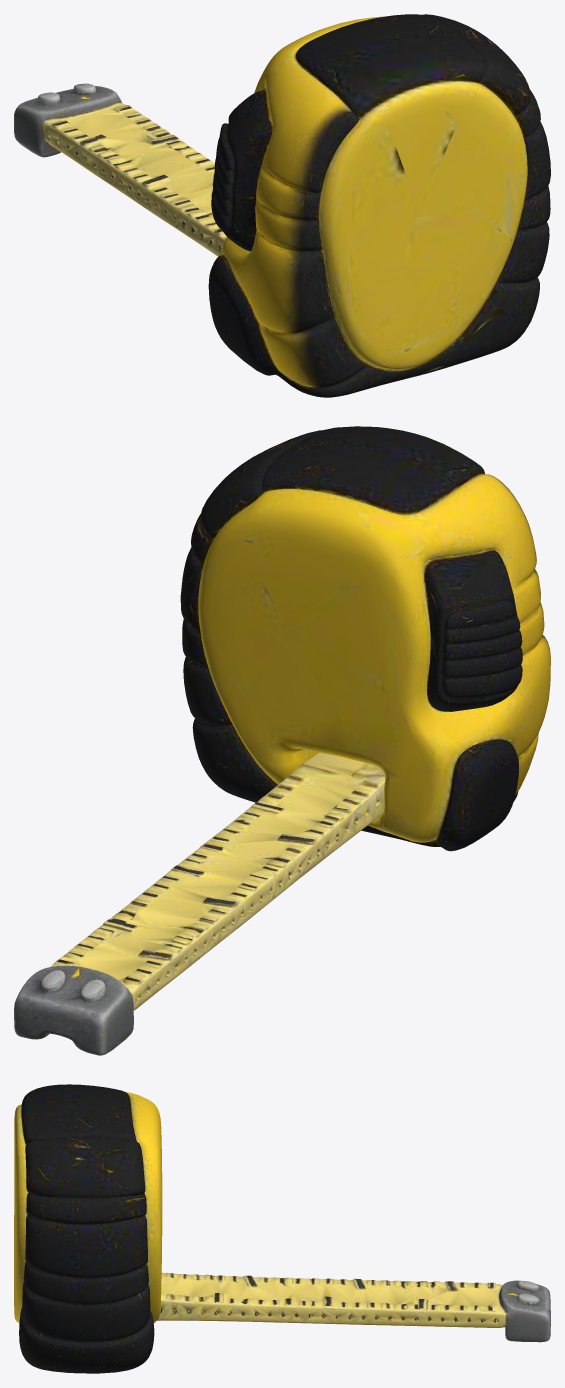
The picture shows the model from 3 angles, top to bottom: view 1: azimuth 30°, elevation 25°; view 2: azimuth 150°, elevation 25°; view 3: azimuth 270°, elevation 25°; orthographic projection. The views are drawn at different scales.
Bounding box in the file's own units: 0.9356 × 0.9292 × 1.9.
Materials: 1 (1 with a texture image).
